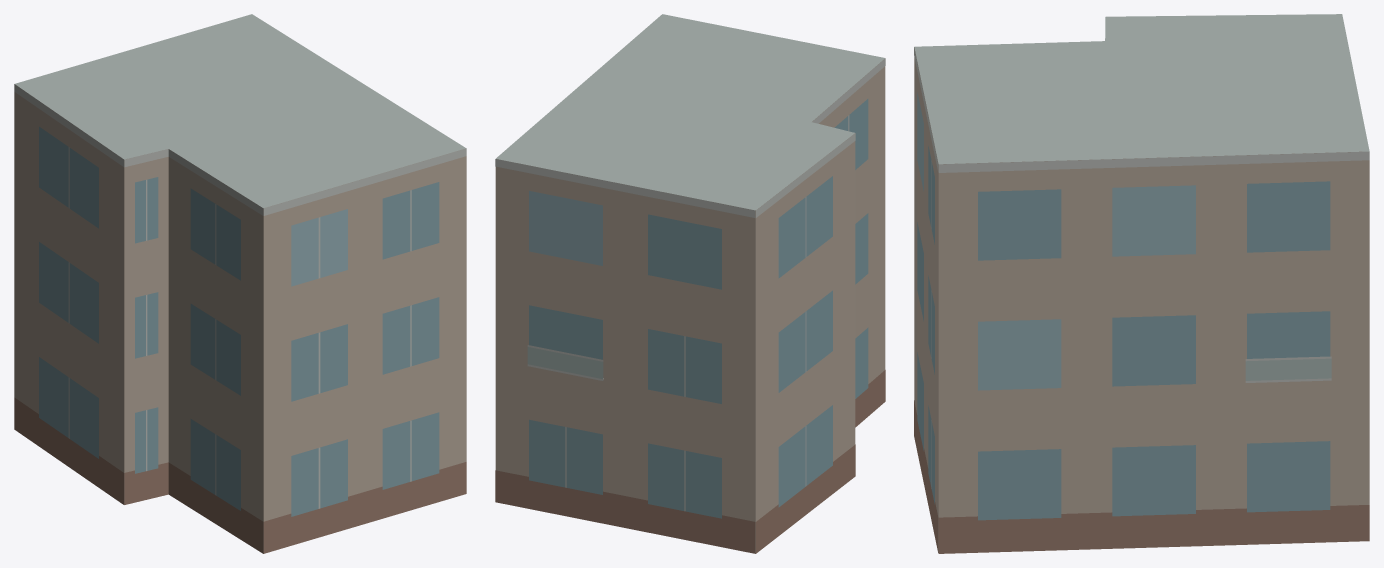
Rendered from survey-upis-32909744.glb.
The picture shows the model from 3 angles, left to right: view 1: azimuth 30°, elevation 25°; view 2: azimuth 150°, elevation 25°; view 3: azimuth 270°, elevation 25°; orthographic projection. The views are drawn at different scales.
Parts seen in each view (by area): view 1: survey-upis-32909744.tmp; view 2: survey-upis-32909744.tmp; view 3: survey-upis-32909744.tmp.
Boxes of the visible parts, x1=… form: survey-upis-32909744.tmp: x1=14, y1=14, x2=466, y2=553; survey-upis-32909744.tmp: x1=495, y1=14, x2=885, y2=553; survey-upis-32909744.tmp: x1=914, y1=14, x2=1369, y2=553.
Size of the model in its own units: 8.94 by 10.8 by 11.45.
